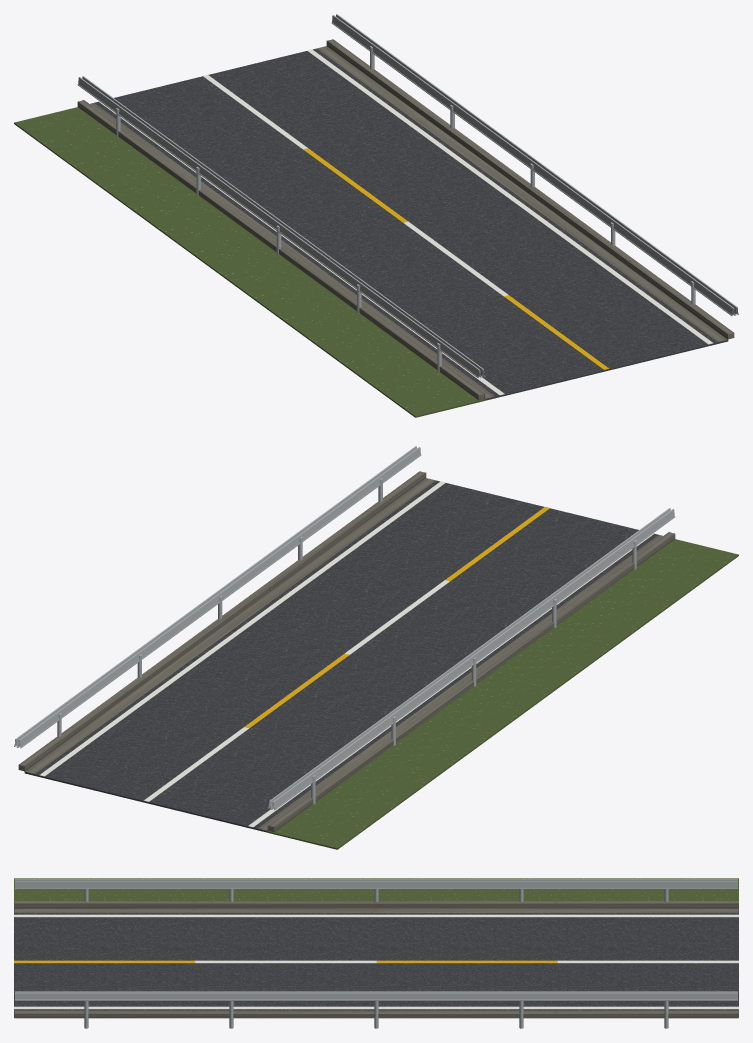
3 renders of one model, top to bottom at view 1: azimuth 30°, elevation 25°; view 2: azimuth 150°, elevation 25°; view 3: azimuth 270°, elevation 25°, orthographic. The views are drawn at different scales.
Visible parts, largest first — view 1: jp-roadway-regional, opt_side_curb, opt_side_guard, opt_center_dash, opt_center_yellow; view 2: jp-roadway-regional, opt_side_curb, opt_side_guard, opt_center_dash, opt_center_yellow; view 3: jp-roadway-regional, opt_side_guard, opt_side_curb, opt_center_dash, opt_center_yellow.
Boxes of the visible parts, x1=… form: jp-roadway-regional: x1=14, y1=46, x2=728, y2=417; opt_side_curb: x1=77, y1=39, x2=734, y2=400; opt_side_guard: x1=77, y1=14, x2=738, y2=378; opt_center_dash: x1=203, y1=74, x2=508, y2=296; opt_center_yellow: x1=303, y1=148, x2=608, y2=369; jp-roadway-regional: x1=24, y1=478, x2=738, y2=849; opt_side_curb: x1=18, y1=471, x2=675, y2=832; opt_side_guard: x1=14, y1=446, x2=675, y2=810; opt_center_dash: x1=144, y1=580, x2=449, y2=801; opt_center_yellow: x1=244, y1=506, x2=549, y2=728; jp-roadway-regional: x1=14, y1=878, x2=738, y2=1016; opt_side_guard: x1=15, y1=879, x2=737, y2=1028; opt_side_curb: x1=14, y1=901, x2=738, y2=1018; opt_center_dash: x1=195, y1=960, x2=738, y2=963; opt_center_yellow: x1=14, y1=960, x2=557, y2=963.
Bounding box in the file's own units: 9.32 × 1.12 × 20.
6 materials, 3 textured.
